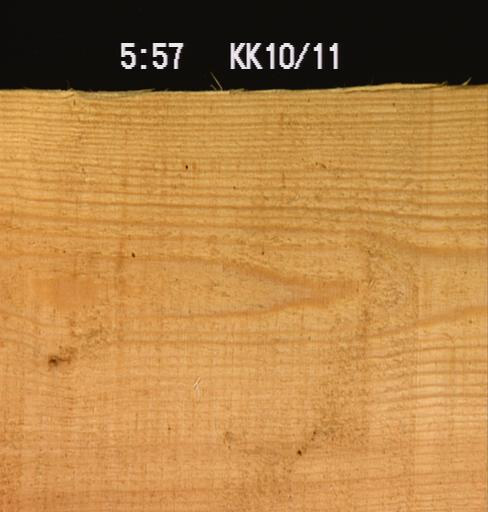small_knot: (44, 353, 59, 369)
